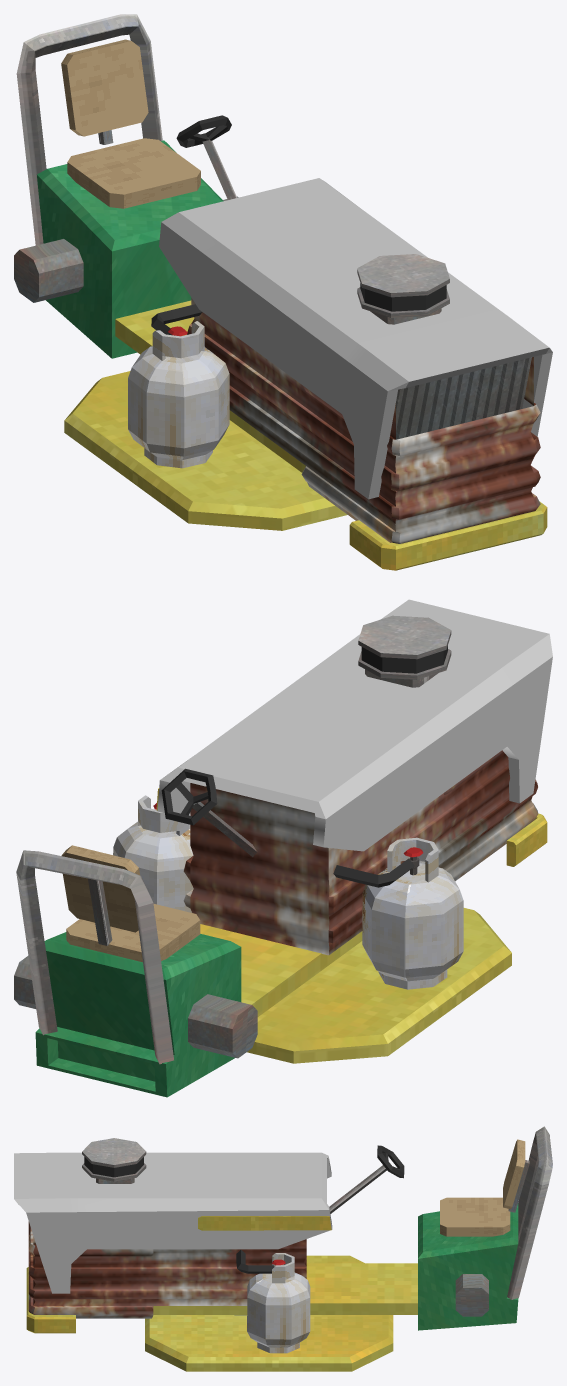
File: Chip_Mower.fbx
3 renders of one model, top to bottom at view 1: azimuth 30°, elevation 25°; view 2: azimuth 150°, elevation 25°; view 3: azimuth 270°, elevation 25°, orthographic. The views are drawn at different scales.
Parts seen in each view (by area): view 1: polySurface16, polySurface17, polySurface6, polySurface21, polySurface10, polySurface2, polySurface22, polySurface23, polySurface4, polySurface8, polySurface24, polySurface14 (+5 smaller); view 2: polySurface16, polySurface17, polySurface21, polySurface6, polySurface10, polySurface2, polySurface19, polySurface9, polySurface24, polySurface23, polySurface22, polySurface14 (+8 smaller); view 3: polySurface16, polySurface17, polySurface6, polySurface21, polySurface9, polySurface19, polySurface2, polySurface23, polySurface11, polySurface14, polySurface25, polySurface8 (+6 smaller).
Part boxes in pixels (x1,y1,x2,y2): polySurface16: (159, 178, 552, 499); polySurface17: (187, 298, 540, 543); polySurface6: (64, 371, 347, 530); polySurface21: (37, 140, 223, 358); polySurface10: (128, 321, 229, 468); polySurface2: (16, 14, 162, 245); polySurface22: (61, 39, 148, 136); polySurface23: (67, 138, 200, 208); polySurface4: (396, 357, 531, 439); polySurface8: (349, 501, 547, 570); polySurface24: (14, 239, 83, 302); polySurface14: (357, 254, 449, 297); polySurface16: (157, 599, 552, 851); polySurface17: (183, 750, 538, 955); polySurface21: (35, 932, 241, 1097); polySurface6: (247, 908, 511, 1063); polySurface10: (362, 837, 463, 989); polySurface2: (16, 850, 173, 1064); polySurface19: (113, 795, 193, 912); polySurface9: (200, 924, 362, 1016); polySurface24: (188, 994, 257, 1058); polySurface23: (66, 904, 200, 962); polySurface22: (61, 845, 140, 932); polySurface14: (358, 615, 451, 659); polySurface16: (14, 1152, 332, 1293); polySurface17: (28, 1221, 306, 1318); polySurface6: (145, 1255, 393, 1371); polySurface21: (418, 1203, 518, 1330); polySurface9: (153, 1263, 417, 1314); polySurface19: (247, 1253, 310, 1353); polySurface2: (507, 1126, 552, 1299); polySurface23: (440, 1197, 510, 1236); polySurface11: (198, 1216, 331, 1230); polySurface14: (82, 1138, 146, 1167); polySurface25: (455, 1274, 488, 1316); polySurface8: (26, 1267, 75, 1333).
Bounding box in the file's own units: 22.43 × 17.44 × 48.43.
